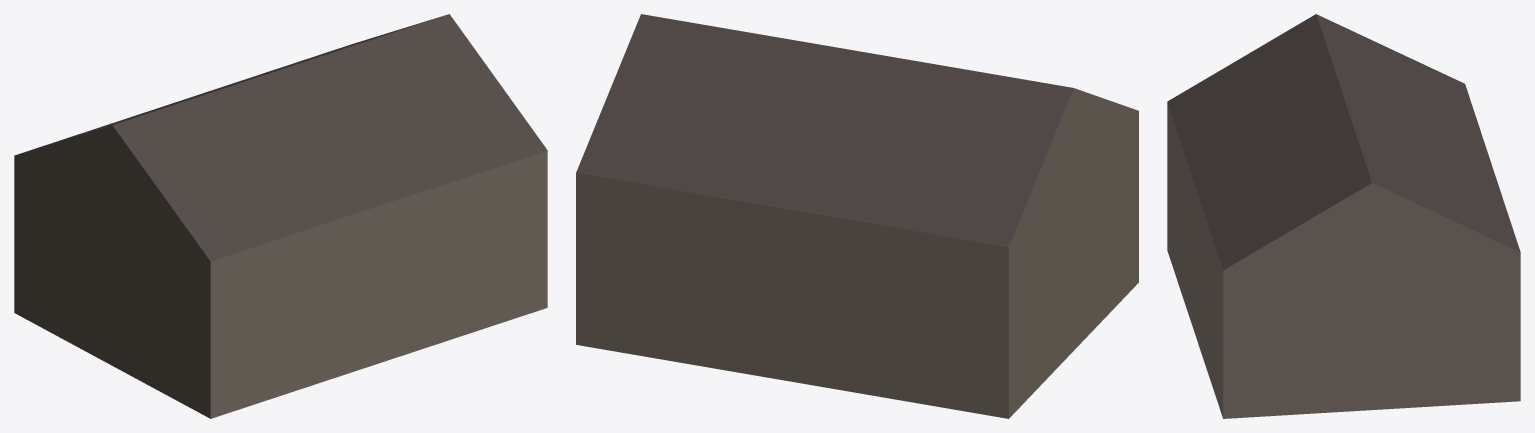
3 views of the same model, side by side, from view 1: azimuth 30°, elevation 25°; view 2: azimuth 150°, elevation 25°; view 3: azimuth 270°, elevation 25° (orthographic). The views are drawn at different scales.
Parts seen in each view (by area): view 1: HP-w1200756566; view 2: HP-w1200756566; view 3: HP-w1200756566.
Boxes of the visible parts, left/top/right/bottom form: HP-w1200756566: left=14, top=14, right=547, bottom=418; HP-w1200756566: left=576, top=14, right=1138, bottom=418; HP-w1200756566: left=1167, top=14, right=1520, bottom=418.
Size of the model in its own units: 16.18 by 9.18 by 12.95.
